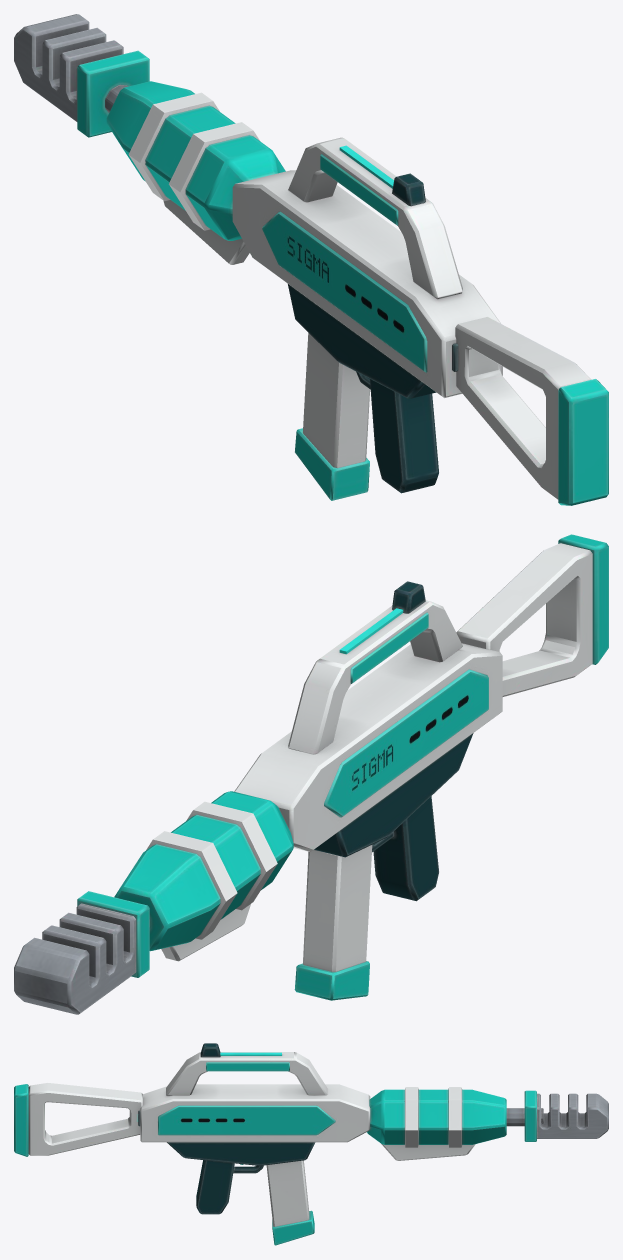
File: carbine_sigma.glb
The picture shows the model from 3 angles, top to bottom: view 1: azimuth 30°, elevation 25°; view 2: azimuth 150°, elevation 25°; view 3: azimuth 270°, elevation 25°; orthographic projection. The views are drawn at different scales.
Parts seen in each view (by area): view 1: carbine_sigma; view 2: carbine_sigma; view 3: carbine_sigma.
Boxes of the visible parts, x1,y1,x2,y2 form: carbine_sigma: [14, 14, 608, 505]; carbine_sigma: [14, 534, 608, 1014]; carbine_sigma: [14, 1043, 608, 1245].
Size of the model in its own units: 0.112 by 0.3964 by 1.09.
Materials: 7 (7 with a texture image).
